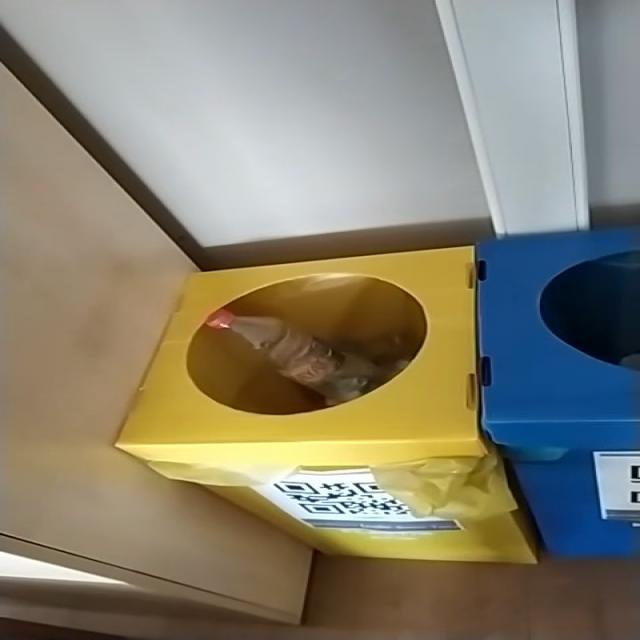Plastic: (205, 309, 383, 406)
